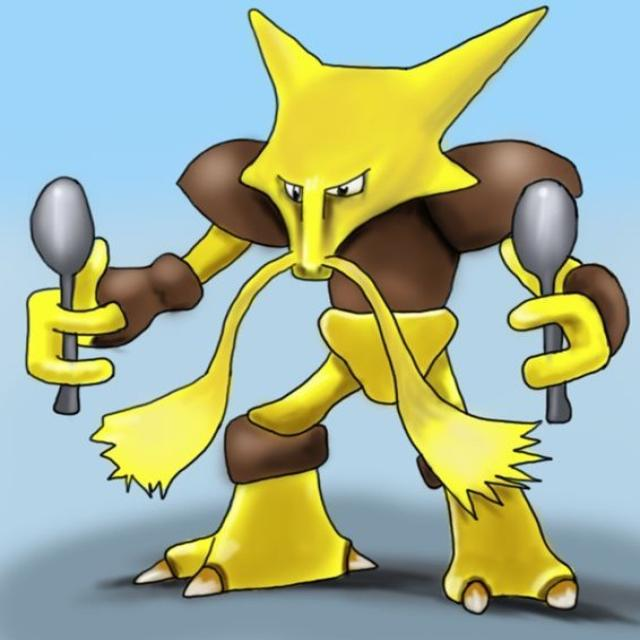Alakazam: (172, 14, 590, 597)
